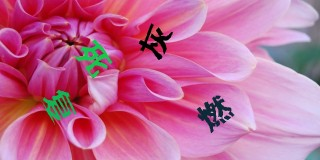复: (42, 90, 76, 122)
死: (74, 40, 112, 78)
灰: (139, 23, 173, 60)
燃: (196, 95, 235, 133)
